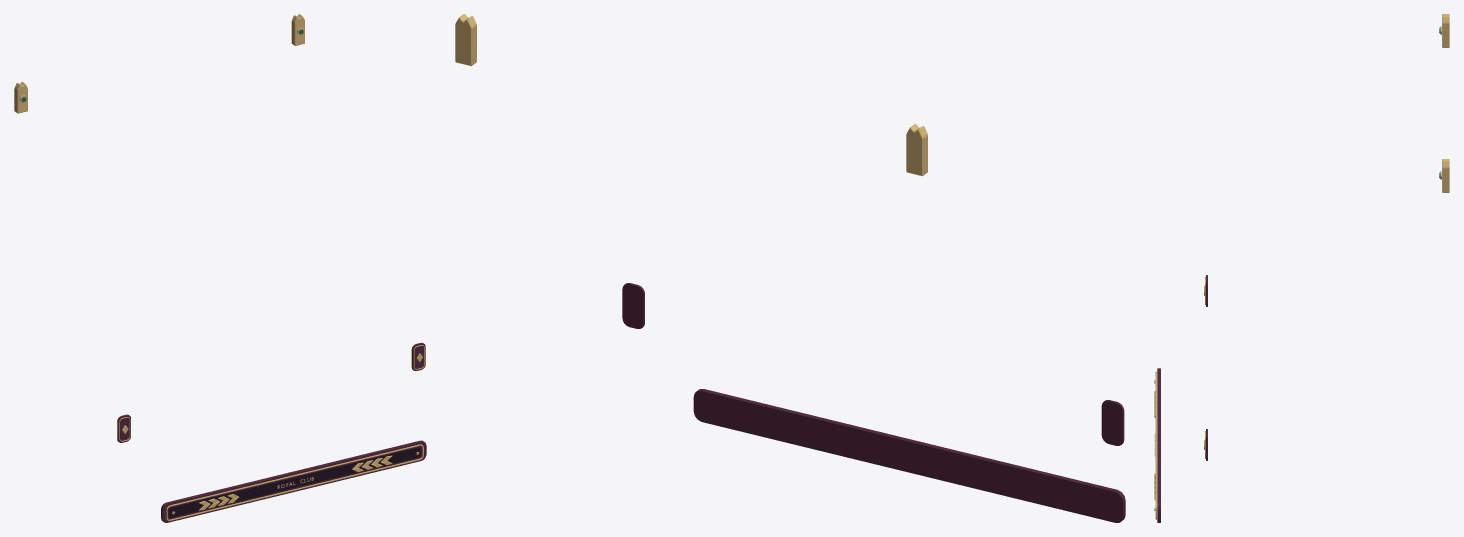
Rendered from cabinet_royal.glb.
The picture shows the model from 3 angles, left to right: view 1: azimuth 30°, elevation 25°; view 2: azimuth 150°, elevation 25°; view 3: azimuth 270°, elevation 25°; orthographic projection. The views are drawn at different scales.
Parts seen in each view (by area): view 1: Stamped apron body_002, Recessed center field_002, Rolled apron surround_002; view 2: Stamped apron body_002, Marquee crown bracket_001, Marquee crown bracket, Front jamb badge_004, Front jamb badge_005; view 3: Stamped apron body_002.
Part boxes in pixels (<box>): Stamped apron body_002: <box>161,440,426,522</box>; Recessed center field_002: <box>168,447,421,517</box>; Rolled apron surround_002: <box>166,444,423,520</box>; Stamped apron body_002: <box>693,389,1125,522</box>; Marquee crown bracket_001: <box>455,14,476,66</box>; Marquee crown bracket: <box>906,124,927,176</box>; Front jamb badge_004: <box>1101,400,1124,445</box>; Front jamb badge_005: <box>622,283,644,328</box>; Stamped apron body_002: <box>1157,368,1160,522</box>.
Size of the model in its own units: 7.11 by 7.59 by 5.52.
